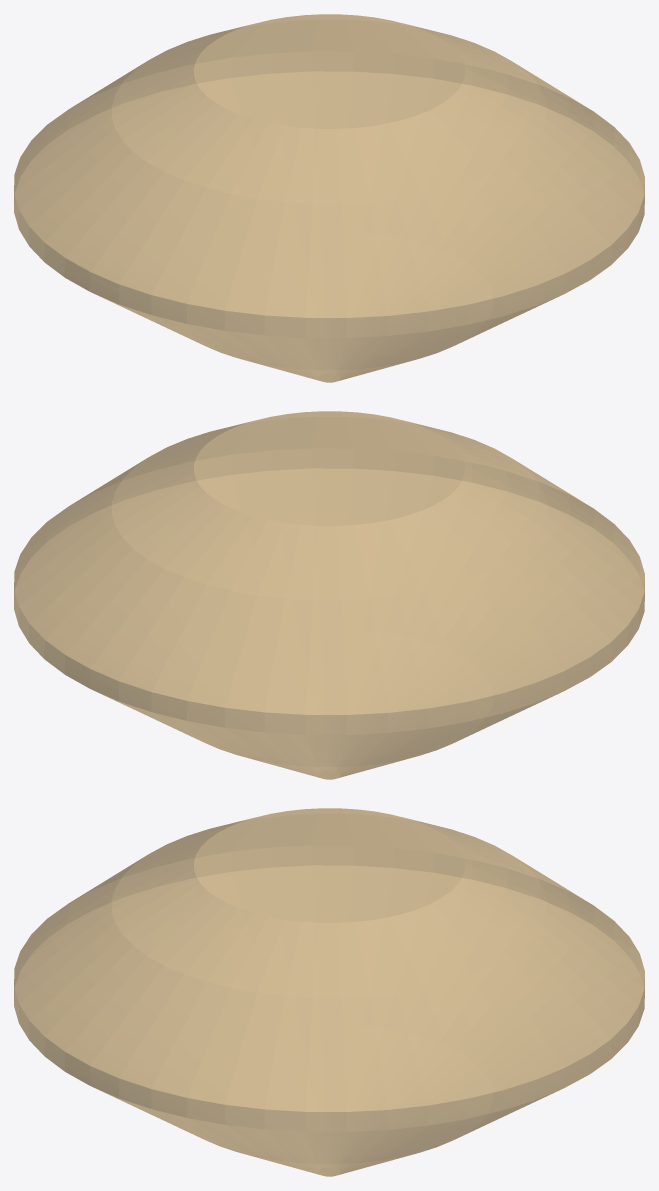
File: stone-zircon.glb
3 views of the same model, one above another, from view 1: azimuth 30°, elevation 25°; view 2: azimuth 150°, elevation 25°; view 3: azimuth 270°, elevation 25° (orthographic).
Parts seen in each view (by area): view 1: Sculpture; view 2: Sculpture; view 3: Sculpture.
Part boxes in pixels (left/top/right/bottom): Sculpture: left=14, top=14, right=644, bottom=382; Sculpture: left=14, top=411, right=644, bottom=779; Sculpture: left=14, top=808, right=644, bottom=1176.
Size of the model in its own units: 2 by 1.07 by 2.
